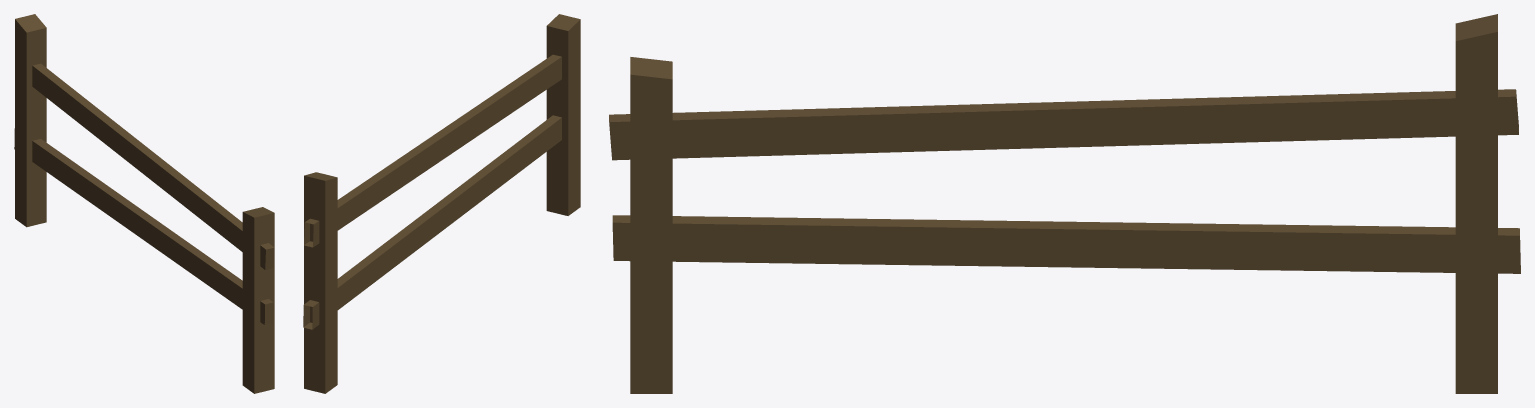
The model's file is Forest_Fence1.fbx.
The picture shows the model from 3 angles, left to right: view 1: azimuth 30°, elevation 25°; view 2: azimuth 150°, elevation 25°; view 3: azimuth 270°, elevation 25°; orthographic projection. The views are drawn at different scales.
Parts seen in each view (by area): view 1: Cube; view 2: Cube; view 3: Cube.
Boxes of the visible parts, box(x1,y1,x2,y2) form: Cube: box(14, 14, 274, 393); Cube: box(303, 14, 580, 393); Cube: box(609, 14, 1520, 393).
Size of the model in its own units: 16.94 by 160 by 366.
